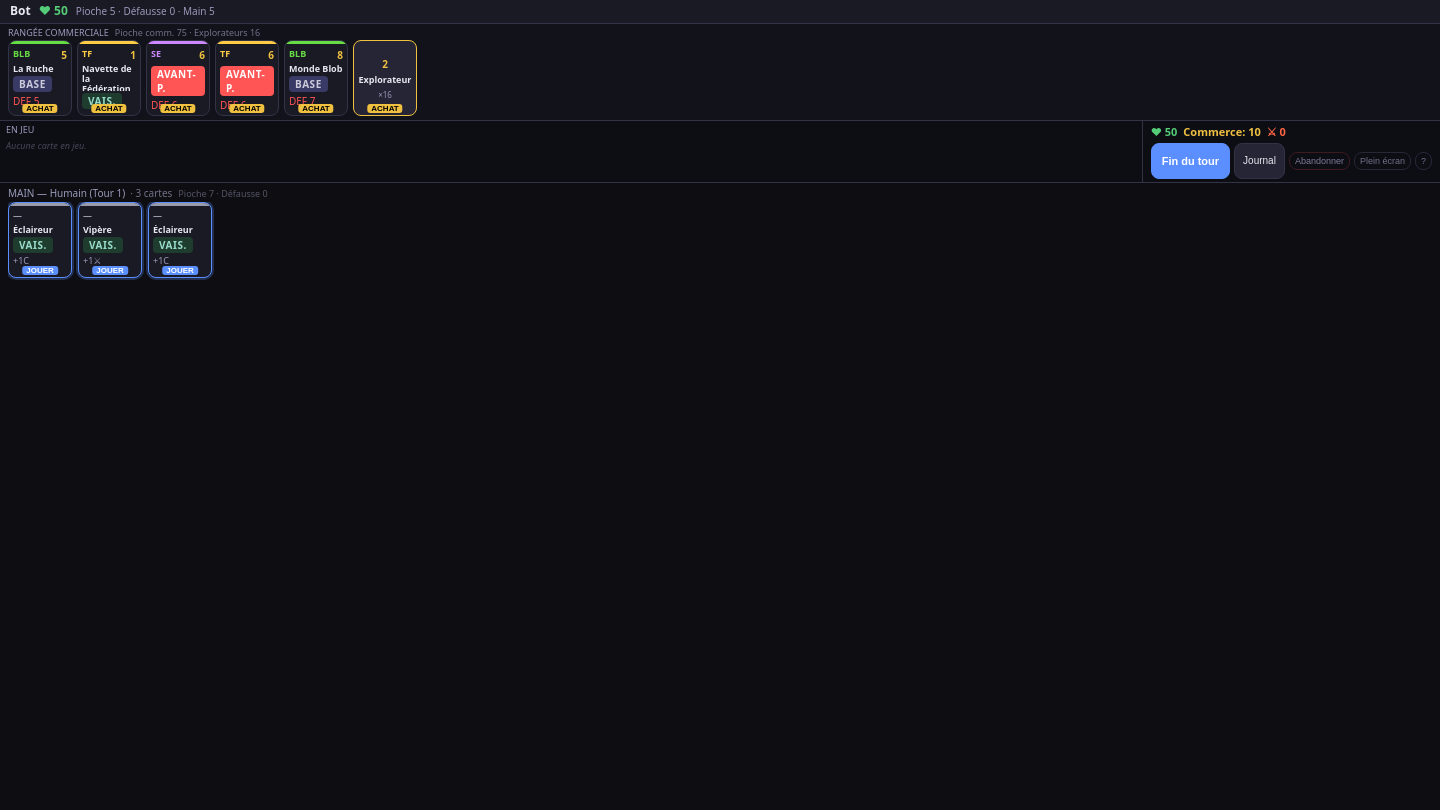
PATCH 0015 — choix bot, main bot, modal achat › le bouton Acheter en modale est affiché si le commerce est suffisant
Click the element showing "BLB 5 La Ruche Base DEF 5 +3⚔ Allié•": (40, 78) [8,40,72,116]
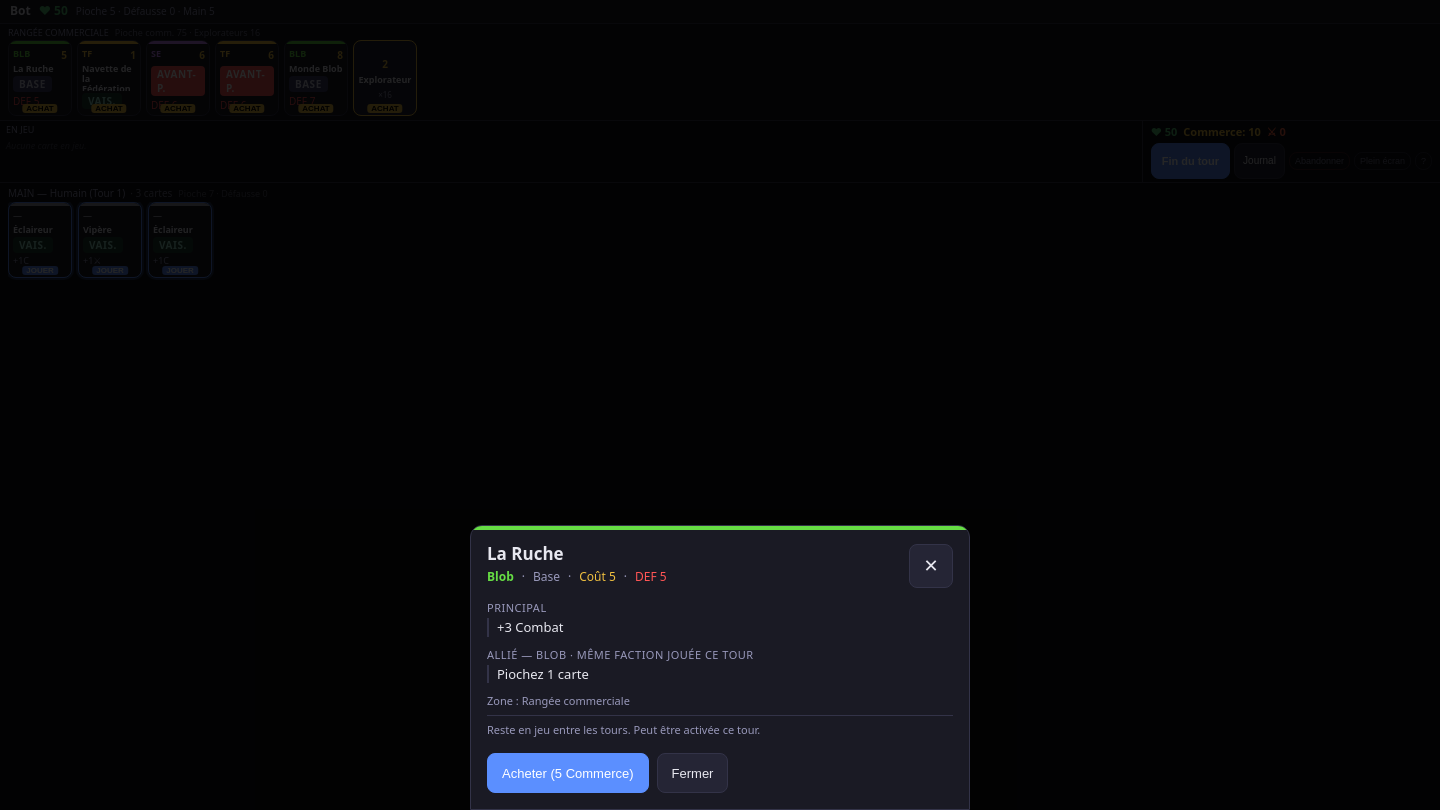
Expected: the button "Acheter (5 Commerce)" is shown, [487,753,648,793]
